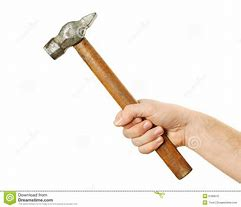hammer: (42, 10, 194, 182)
